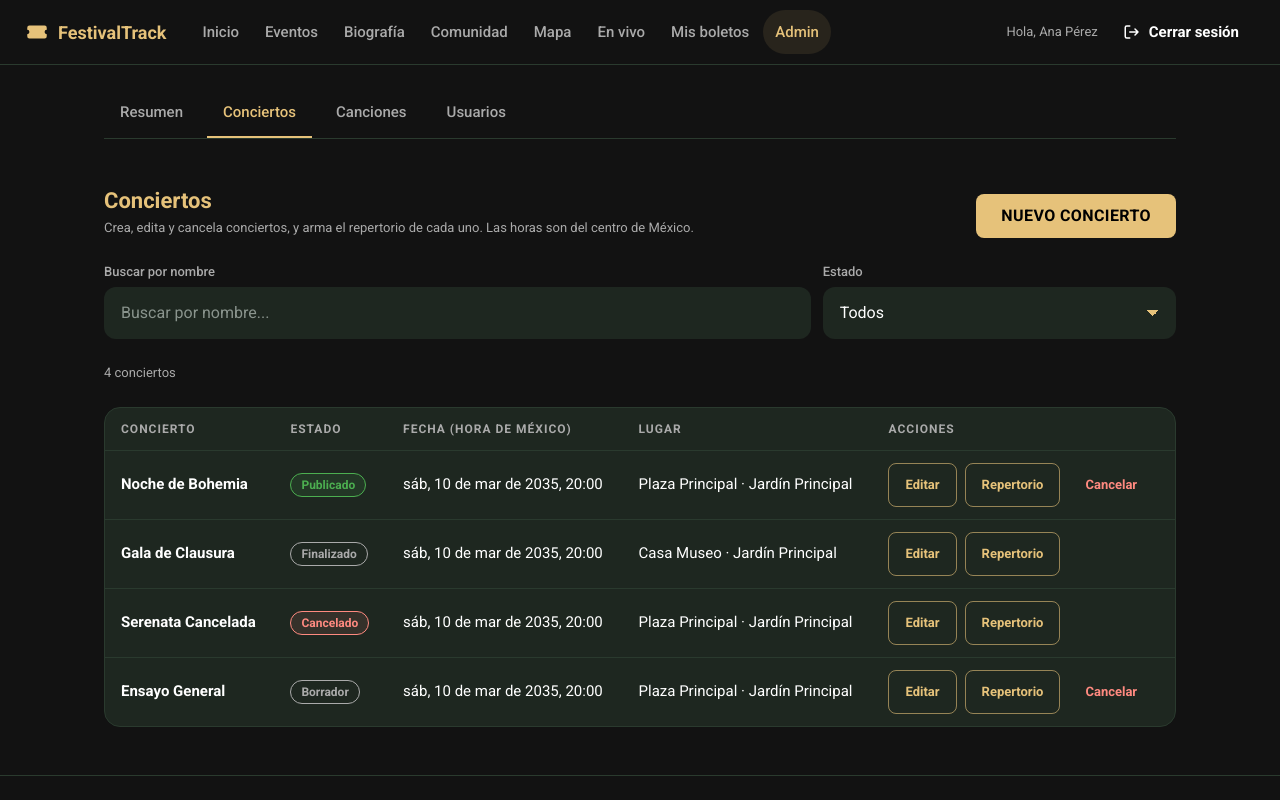
Test: cancelar un concierto › pide confirmación con un texto claro, envía DELETE y avisa del resultado
Click the button with aria-label "Cancelar Noche de Bohemia" at (1111,484), box [1068, 462, 1154, 506]
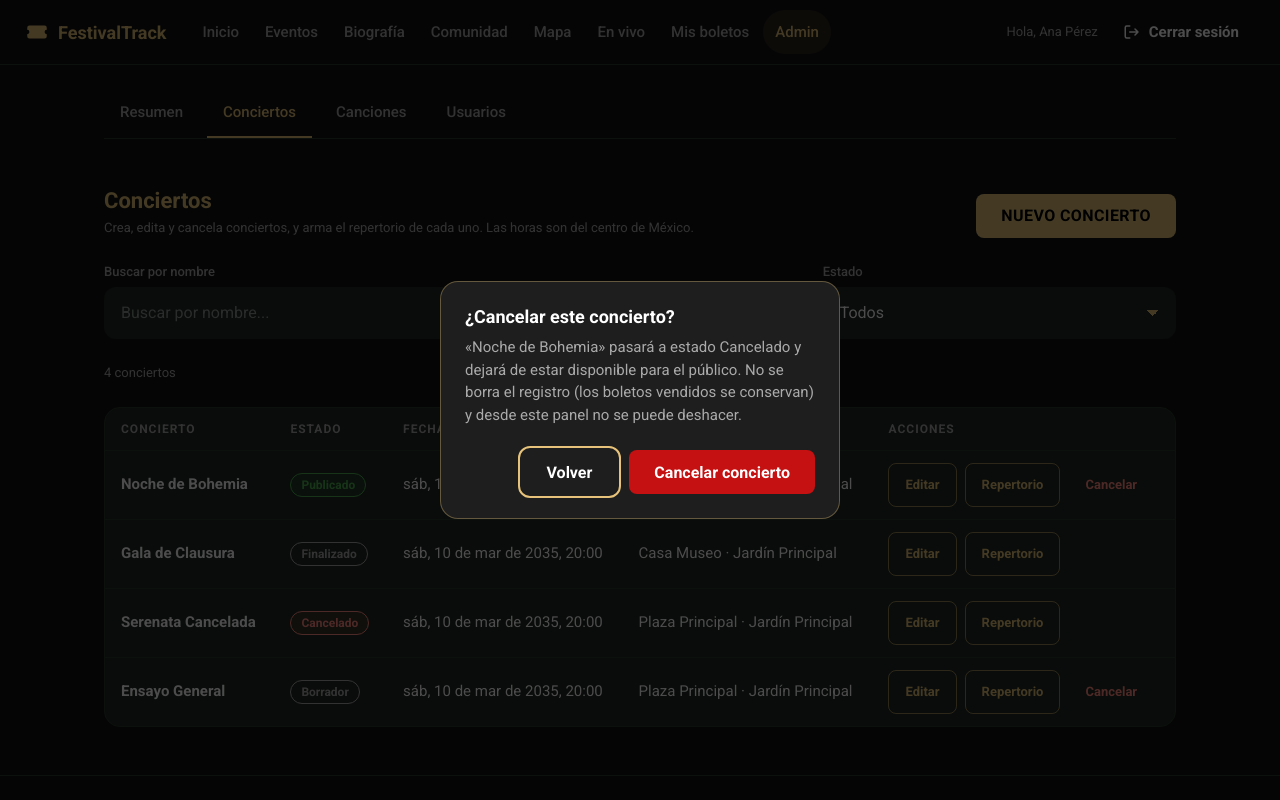
Now the text "No se borra el registro" is shown, box [465, 338, 814, 424]
Click the button "Cancelar concierto" at (722,472), box [629, 450, 815, 494]
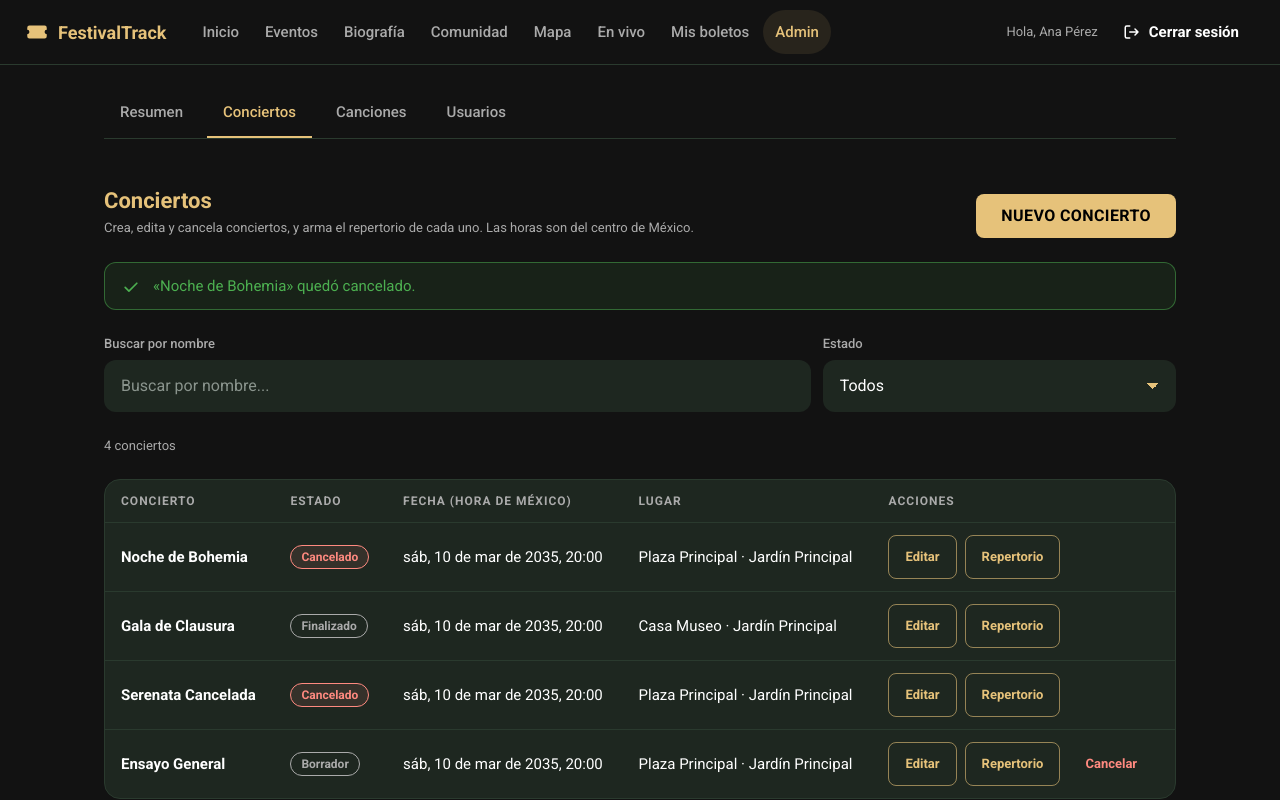
Now the text "«Noche de Bohemia» quedó cancelado." is shown, box [153, 274, 415, 297]
